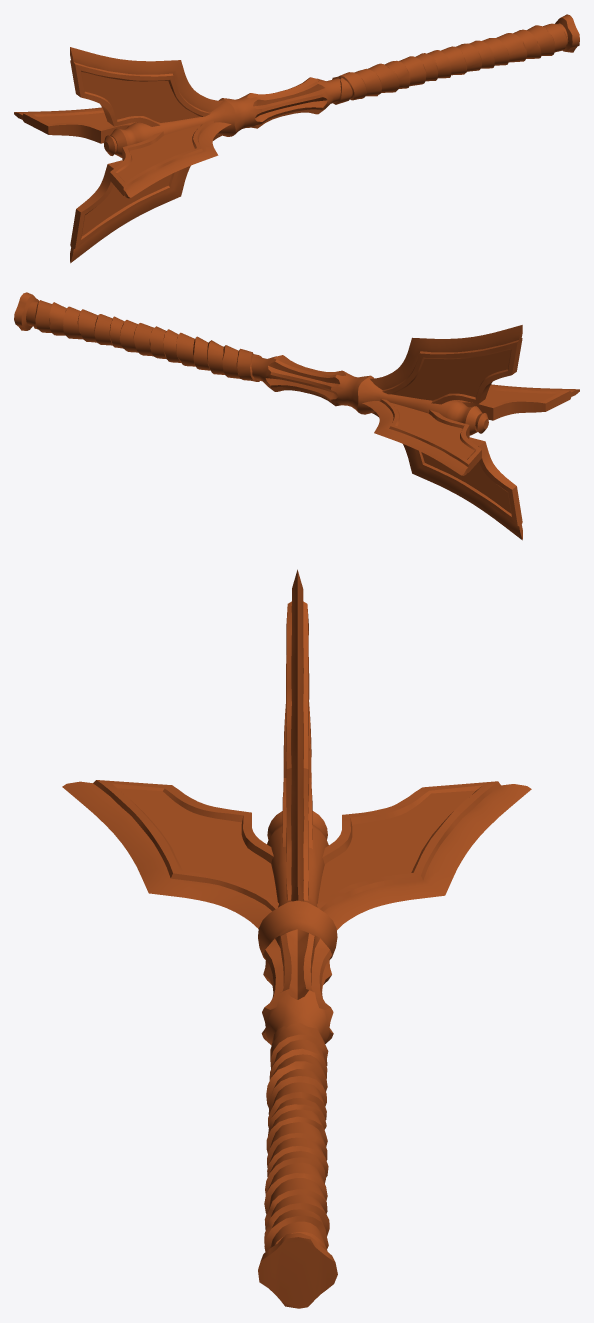
Rendered from SM_Rune_Mace_4.obj.
3 renders of one model, top to bottom at view 1: azimuth 30°, elevation 25°; view 2: azimuth 150°, elevation 25°; view 3: azimuth 270°, elevation 25°, orthographic. The views are drawn at different scales.
Parts seen in each view (by area): view 1: SM_Rune_Mace_4; view 2: SM_Rune_Mace_4; view 3: SM_Rune_Mace_4.
Part boxes in pixels (x1,y1,x2,y2): SM_Rune_Mace_4: [14, 14, 579, 263]; SM_Rune_Mace_4: [14, 292, 579, 540]; SM_Rune_Mace_4: [62, 569, 531, 1308].
Size of the model in its own units: 978 by 404 by 399.
